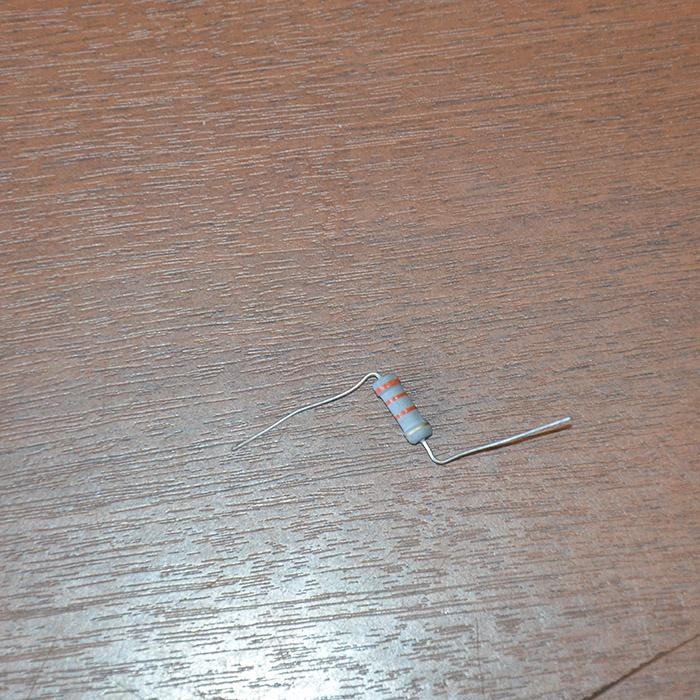resistor: (371, 371, 430, 443)
